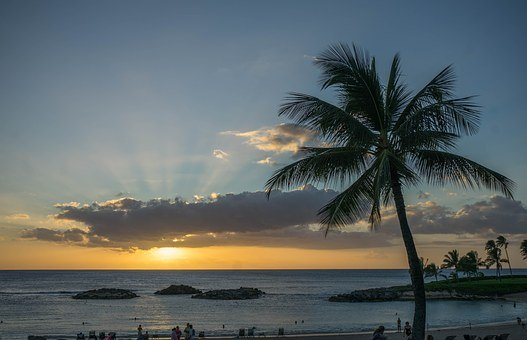sea: (9, 266, 527, 337)
sky: (5, 6, 521, 267)
tree: (311, 55, 487, 328)
